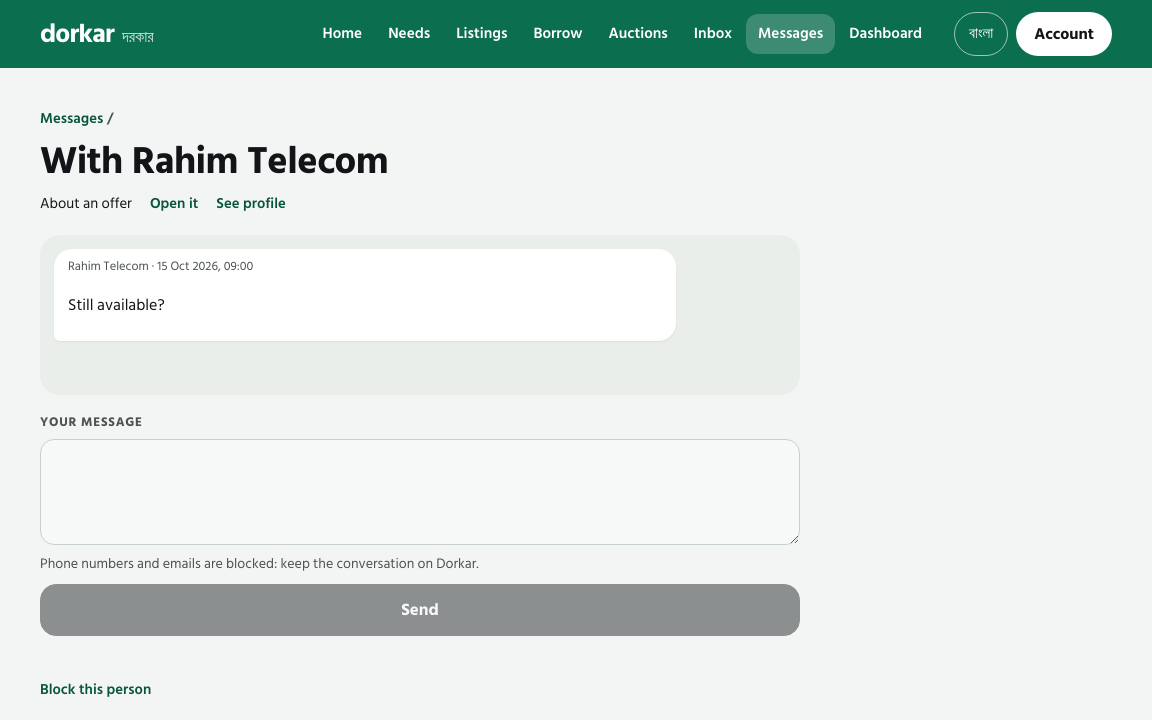
Test: messages › shows the thread, marks it read and sends with a client id
expect the heading "With Rahim Telecom" is shown: met, box [40,130,388,192]
expect the text "Still available?" is shown: met, box [68,292,165,318]
Type "Yes, come by at 5." into the text box labelled "Your message" at (420, 492), box [41,440,799,544]
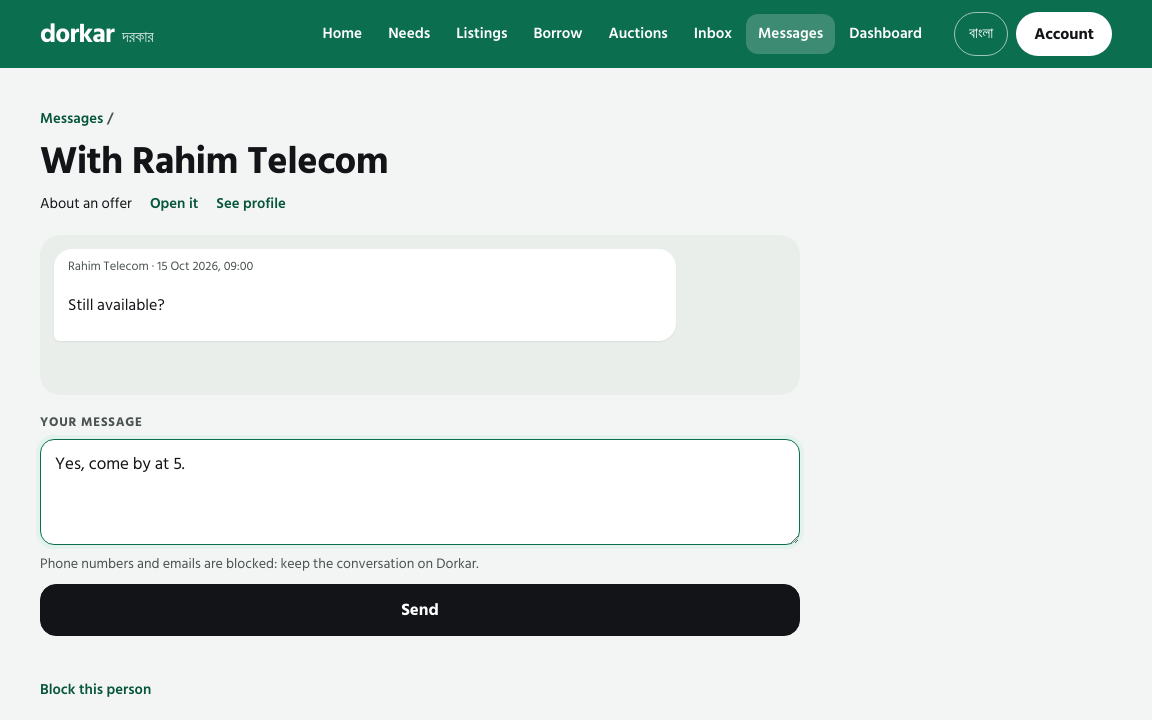
Click the button "Send" at (420, 610), box [40,584,800,636]
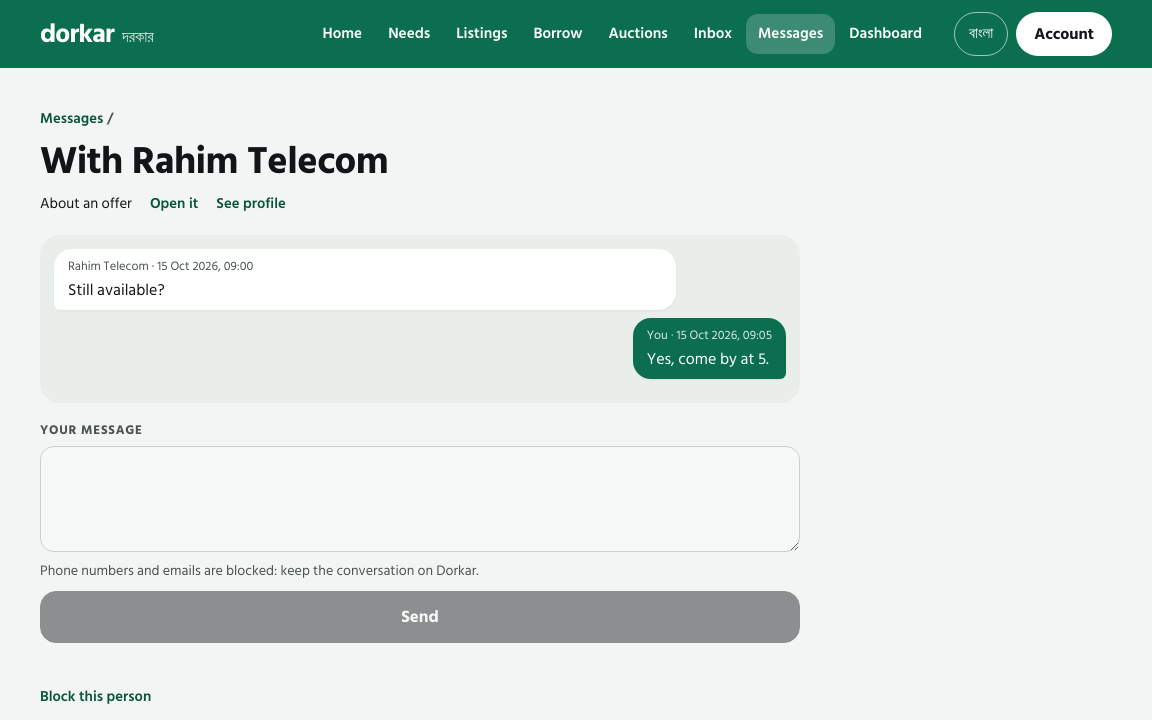
expect the text "Yes, come by at 5." is shown: met, box [647,347,772,371]
